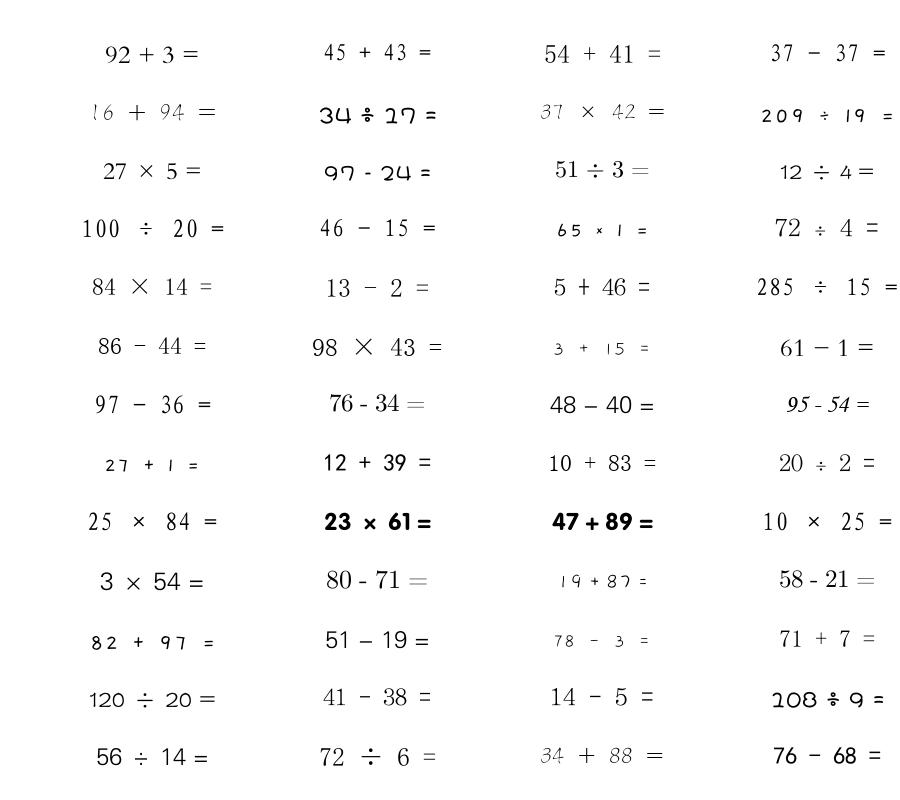MQ: (81, 219, 224, 238), (756, 278, 898, 296), (87, 512, 217, 531), (762, 512, 892, 531), (312, 338, 442, 356), (89, 103, 216, 121), (544, 44, 661, 63), (94, 395, 211, 414), (96, 747, 209, 766), (540, 747, 664, 764), (769, 44, 886, 62), (319, 219, 436, 237), (319, 748, 436, 766), (92, 278, 212, 295), (324, 512, 431, 531), (89, 692, 216, 708), (318, 107, 437, 124), (540, 104, 665, 120), (775, 218, 879, 237), (325, 278, 429, 297), (100, 572, 204, 591), (550, 687, 654, 706), (770, 691, 885, 708), (323, 43, 431, 61), (323, 688, 431, 706), (326, 570, 428, 589), (552, 512, 653, 531), (89, 635, 216, 650), (760, 109, 895, 123), (550, 396, 655, 414), (325, 631, 430, 649), (98, 337, 206, 354), (323, 454, 431, 471), (773, 747, 881, 764), (554, 278, 650, 296), (329, 394, 425, 412), (548, 455, 656, 471), (779, 454, 875, 472), (779, 570, 875, 588), (324, 165, 431, 181), (555, 160, 650, 178), (105, 46, 199, 64), (780, 339, 874, 357), (103, 163, 202, 180), (779, 630, 875, 647), (780, 165, 874, 180), (553, 342, 651, 356), (557, 574, 648, 589), (785, 396, 869, 412), (555, 223, 649, 237), (553, 635, 651, 648), (104, 459, 200, 472)
